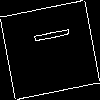I: (24, 25, 70, 48)
